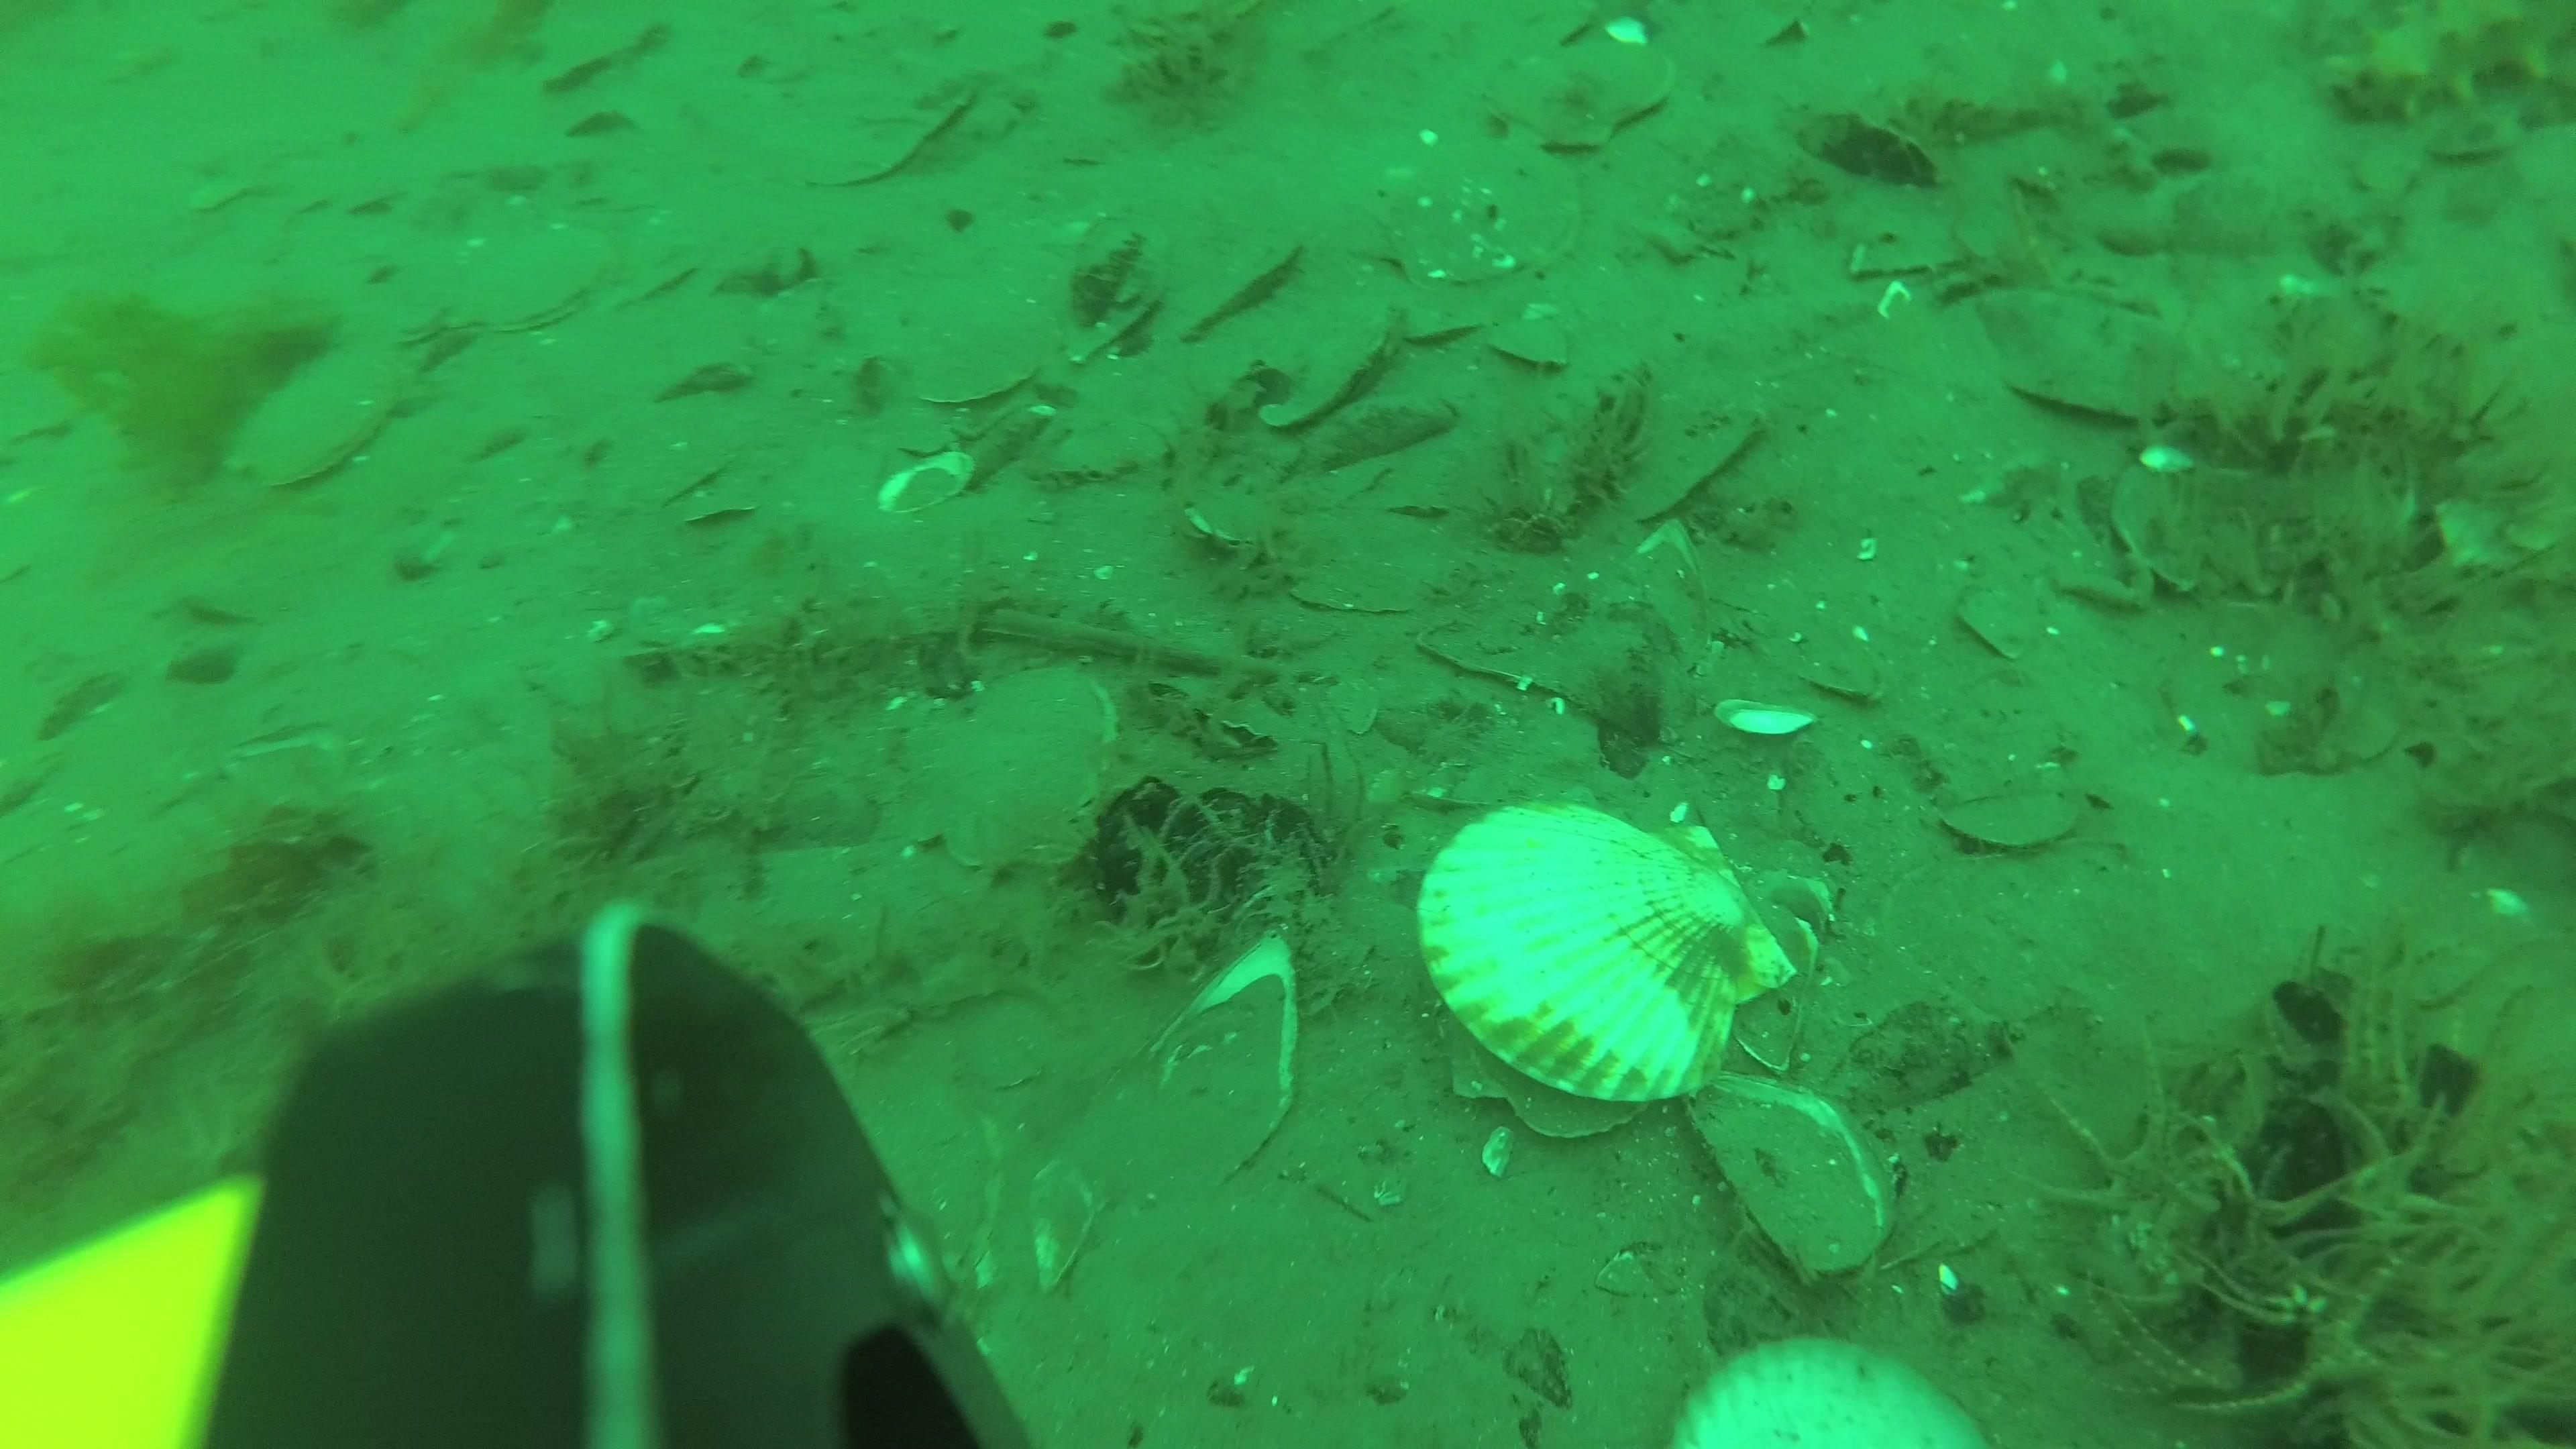scallop: (1415, 796, 1801, 1123), (899, 672, 1123, 879), (1385, 143, 1578, 292), (1488, 39, 1684, 166), (228, 356, 389, 501), (1242, 288, 1410, 419), (913, 292, 1069, 409), (460, 239, 612, 334), (1173, 235, 1316, 333), (1943, 784, 2086, 860), (1479, 308, 1587, 372), (1392, 292, 1484, 356)
